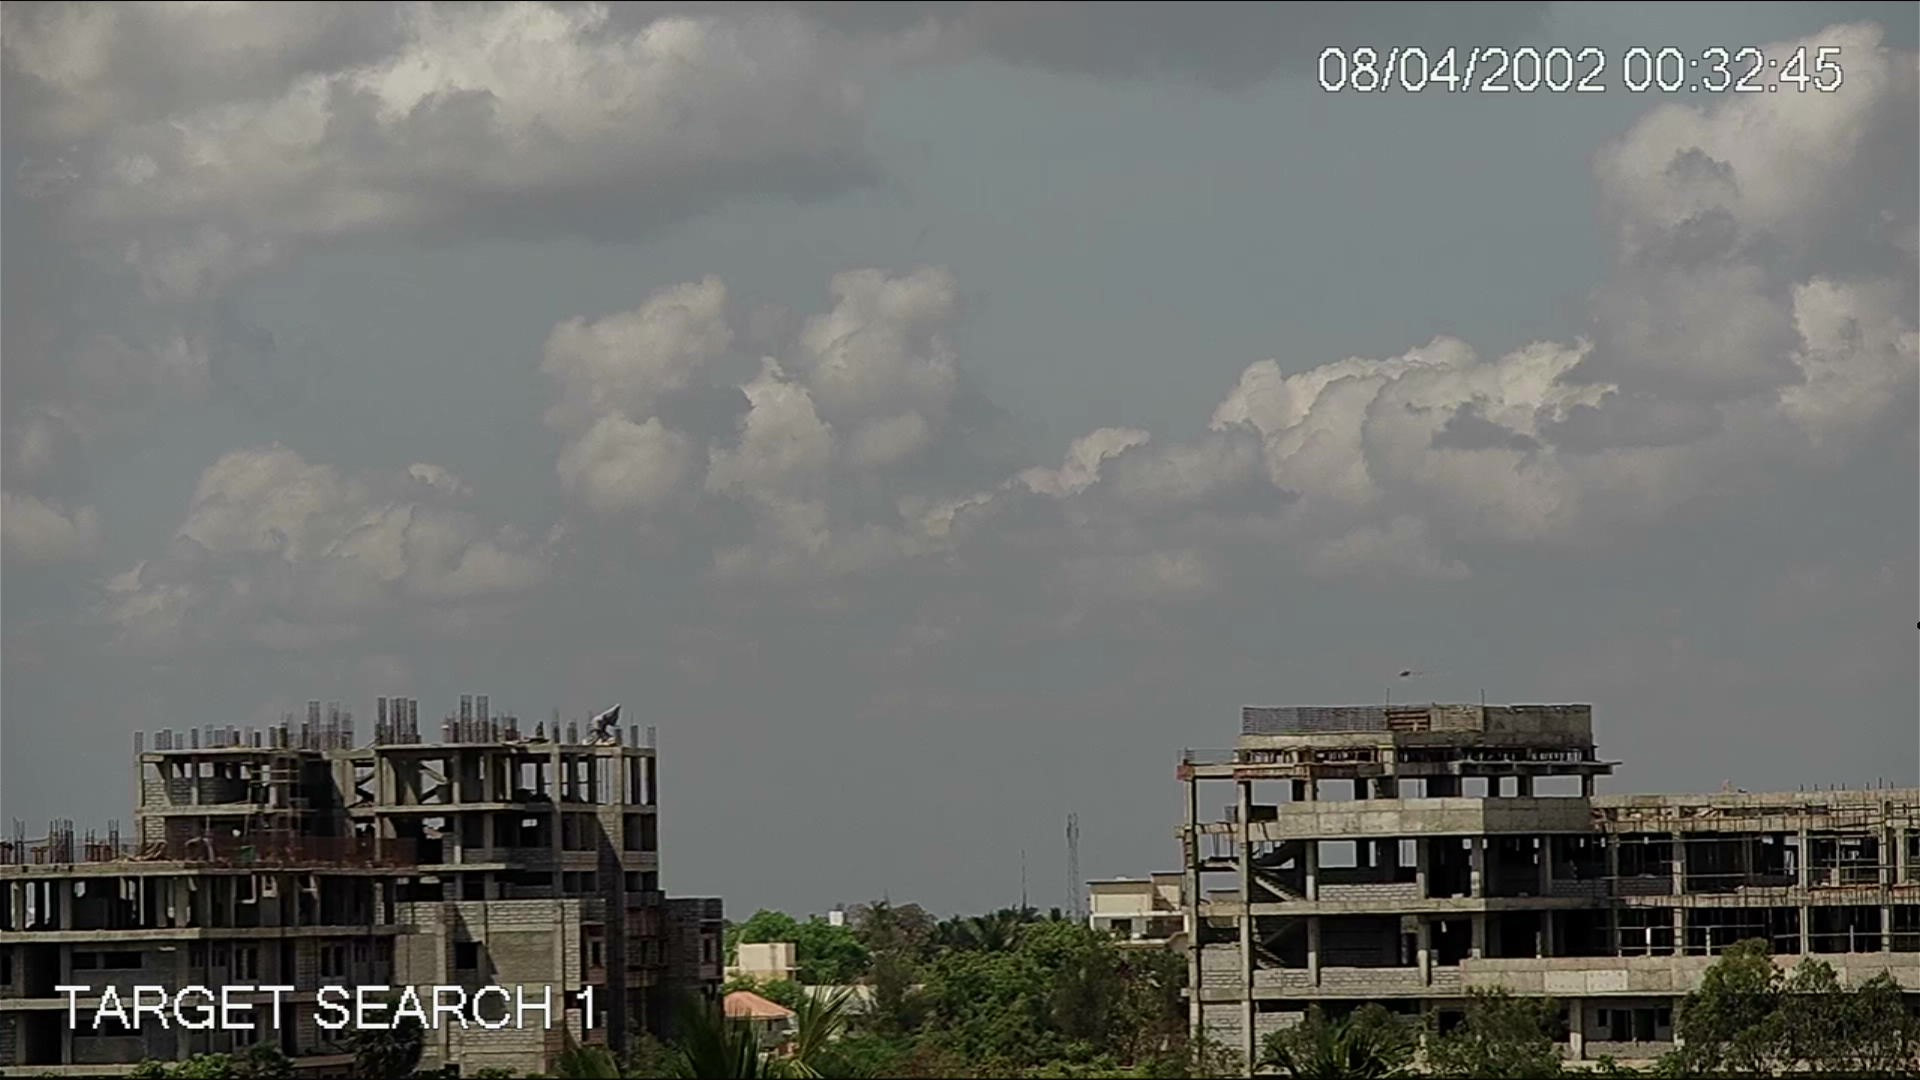SU_30: (1395, 669, 1436, 683)
